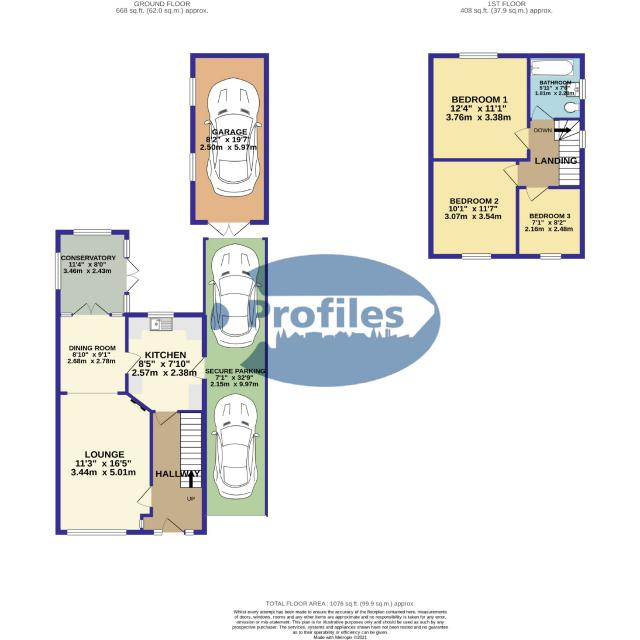DOOR: (188, 356, 207, 379), (502, 164, 520, 187), (513, 127, 531, 150), (162, 517, 184, 535), (136, 485, 153, 508), (125, 351, 142, 374), (525, 186, 549, 202), (154, 410, 178, 426), (531, 105, 554, 121)
DOUBLE DOOR: (72, 302, 110, 317), (124, 258, 140, 293)
ROOM: (55, 302, 153, 536), (428, 52, 531, 162), (428, 158, 520, 260), (125, 312, 207, 426), (54, 229, 140, 318), (516, 186, 585, 260)
WINDOW: (66, 529, 127, 536), (54, 252, 62, 290), (459, 52, 498, 59), (73, 229, 112, 236), (461, 253, 492, 260), (147, 312, 174, 318), (123, 239, 131, 258), (123, 294, 131, 313), (540, 253, 561, 260), (579, 79, 586, 100), (579, 130, 586, 149), (185, 529, 194, 536), (153, 529, 162, 536), (61, 312, 72, 317), (112, 312, 123, 317), (139, 519, 145, 528)
